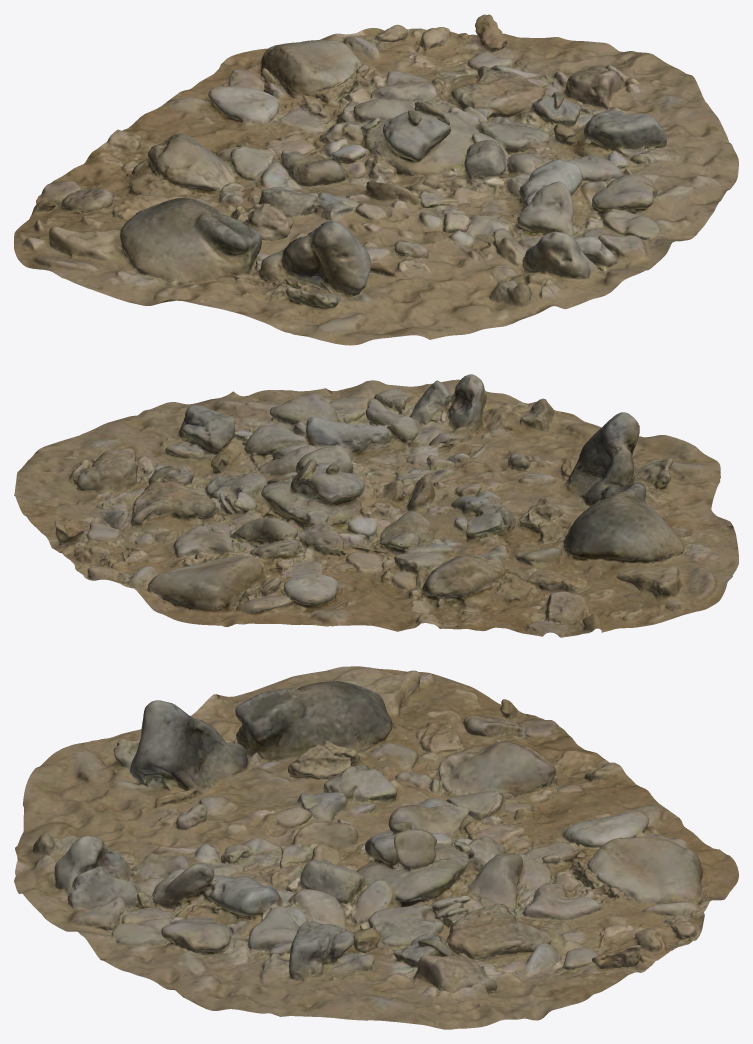
Rendered from sand_rocks_small_01.glb.
3 views of the same model, one above another, from view 1: azimuth 30°, elevation 25°; view 2: azimuth 150°, elevation 25°; view 3: azimuth 270°, elevation 25° (orthographic). The views are drawn at different scales.
Visible parts, largest first — view 1: sand_rocks_small_01_LOD0; view 2: sand_rocks_small_01_LOD0; view 3: sand_rocks_small_01_LOD0.
Boxes of the visible parts, x1,y1,x2,y2 form: sand_rocks_small_01_LOD0: [14, 14, 738, 345]; sand_rocks_small_01_LOD0: [14, 374, 738, 637]; sand_rocks_small_01_LOD0: [14, 666, 738, 1029].
Size of the model in its own units: 4.63 by 0.5348 by 3.88.
1 material, 1 textured.
